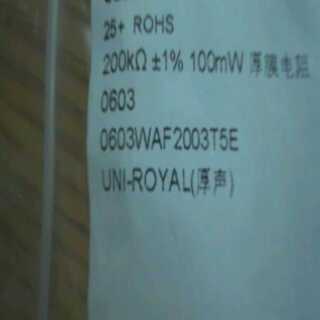200kR: (96, 47, 151, 83)
